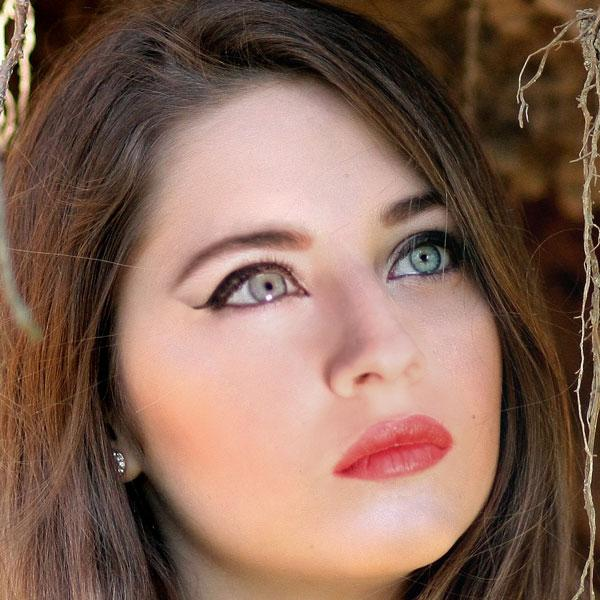Eyes: (201, 252, 318, 323), (375, 223, 471, 296)
